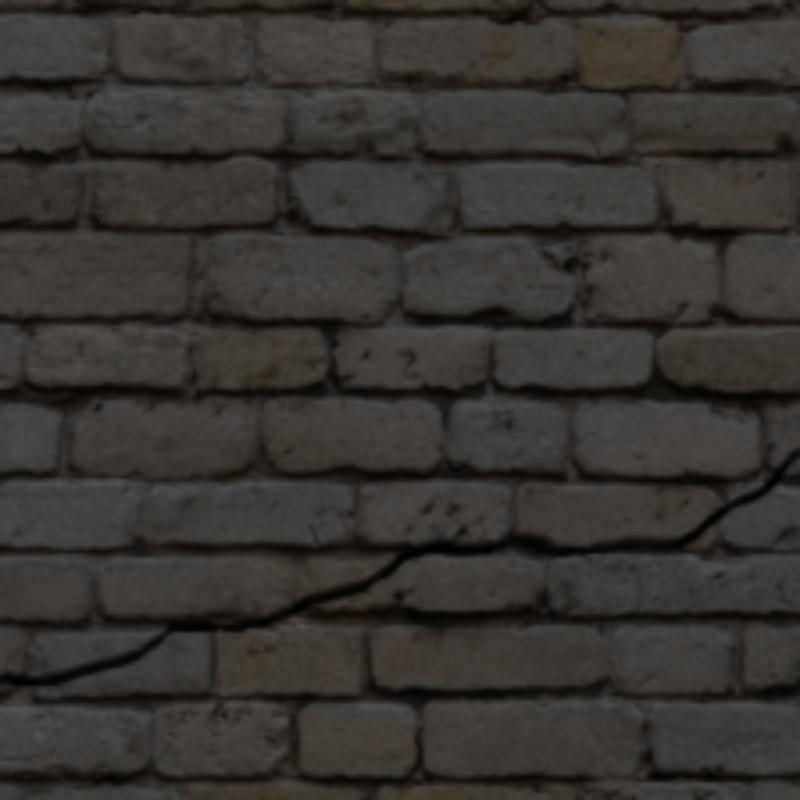pothole: (0, 450, 796, 682)
